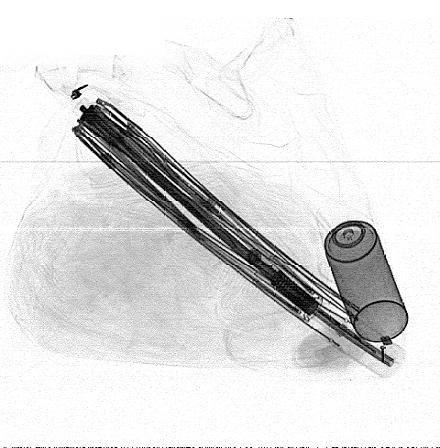Sprayer: (315, 197, 409, 343)
